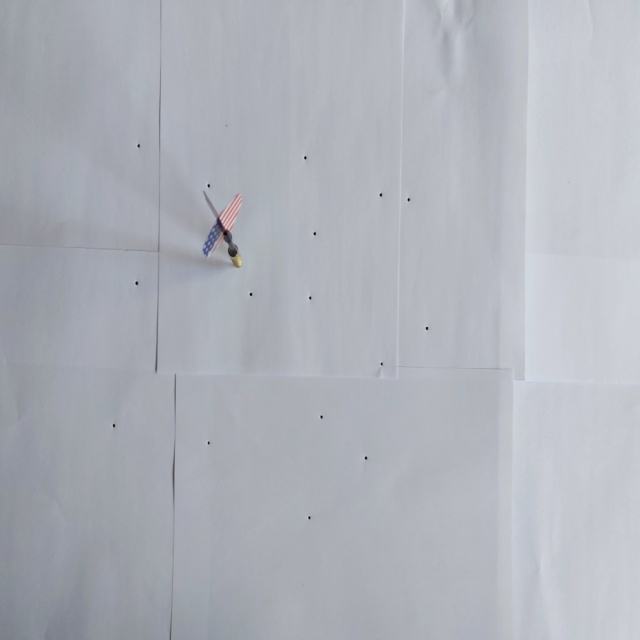Dart: (194, 187, 253, 272)
